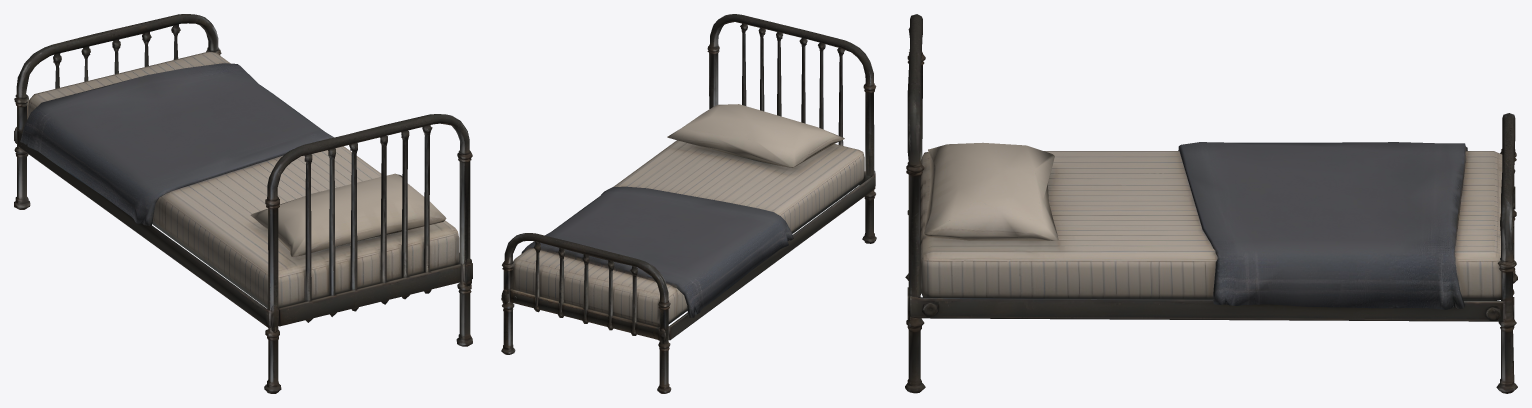
The model's file is bed-iron-rail-v01.glb.
3 renders of one model, left to right at view 1: azimuth 30°, elevation 25°; view 2: azimuth 150°, elevation 25°; view 3: azimuth 270°, elevation 25°, orthographic. The views are drawn at different scales.
Visible parts, largest first — view 1: tripo_node_d3f56bda-c17f-4665-8b85-071624dd81a8; view 2: tripo_node_d3f56bda-c17f-4665-8b85-071624dd81a8; view 3: tripo_node_d3f56bda-c17f-4665-8b85-071624dd81a8.
Boxes of the visible parts, box(x1,y1,x2,y2) form: tripo_node_d3f56bda-c17f-4665-8b85-071624dd81a8: box(14, 14, 472, 393); tripo_node_d3f56bda-c17f-4665-8b85-071624dd81a8: box(501, 14, 876, 393); tripo_node_d3f56bda-c17f-4665-8b85-071624dd81a8: box(905, 14, 1517, 393).
Size of the model in its own units: 0.998 by 1.01 by 2.
1 material, 1 textured.
